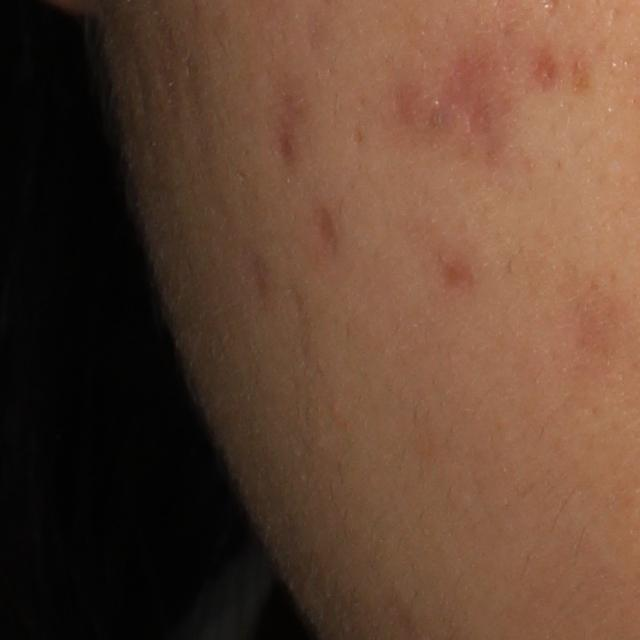atrophic_scar: (442, 57, 491, 142), (128, 37, 151, 159), (314, 204, 338, 248)
